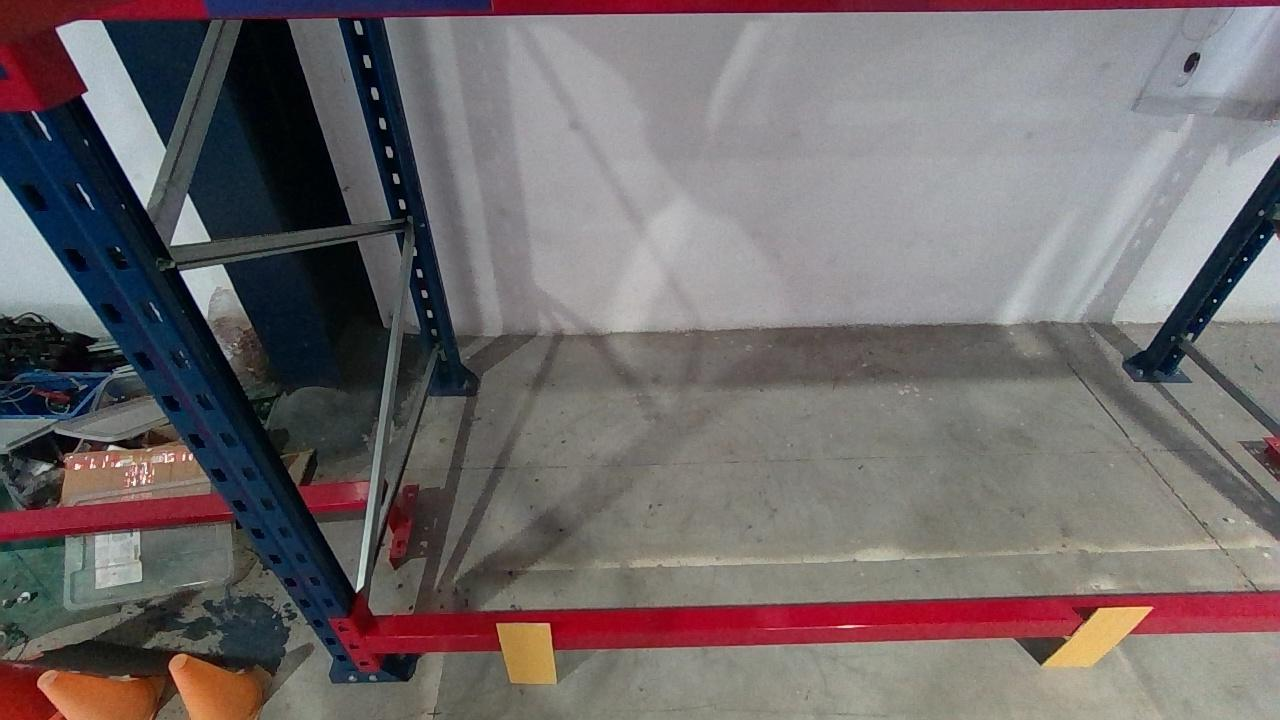h_rack: (357, 592, 1276, 653), (22, 0, 1218, 20)
orange_strip: (1042, 606, 1155, 667), (494, 622, 556, 682)
